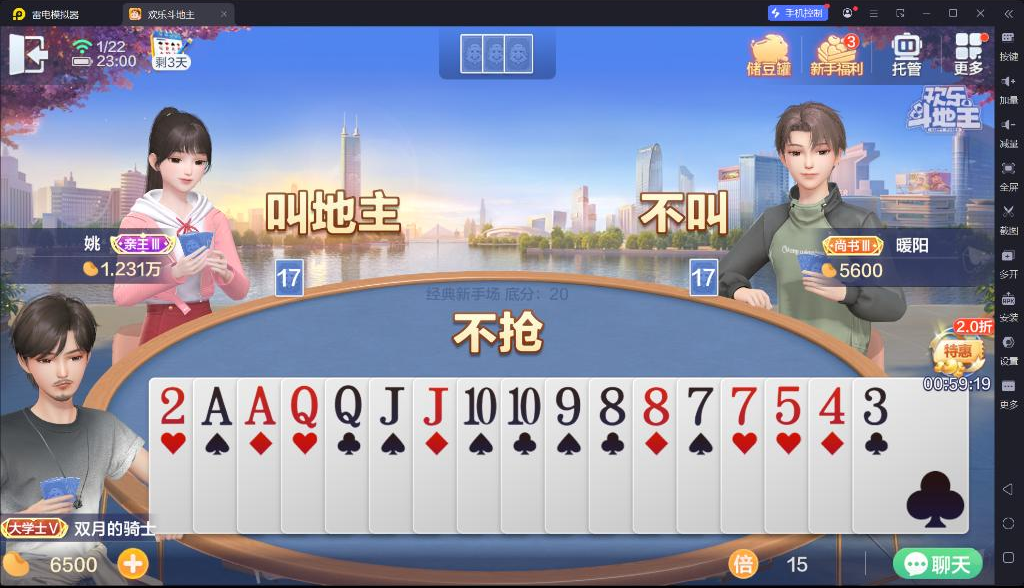A: (242, 381, 277, 427), (199, 384, 235, 428)
J: (375, 383, 407, 427), (419, 384, 451, 427)
Q: (330, 383, 364, 429), (287, 382, 319, 429)
eight: (638, 383, 671, 427), (596, 384, 628, 427)
five: (769, 383, 803, 426)
four: (815, 384, 849, 427)
nine: (551, 384, 583, 427)
seven: (683, 383, 715, 428), (727, 382, 759, 426)
ten: (461, 384, 499, 427), (506, 384, 543, 427)
three: (860, 381, 890, 427)
two: (157, 384, 188, 426)
